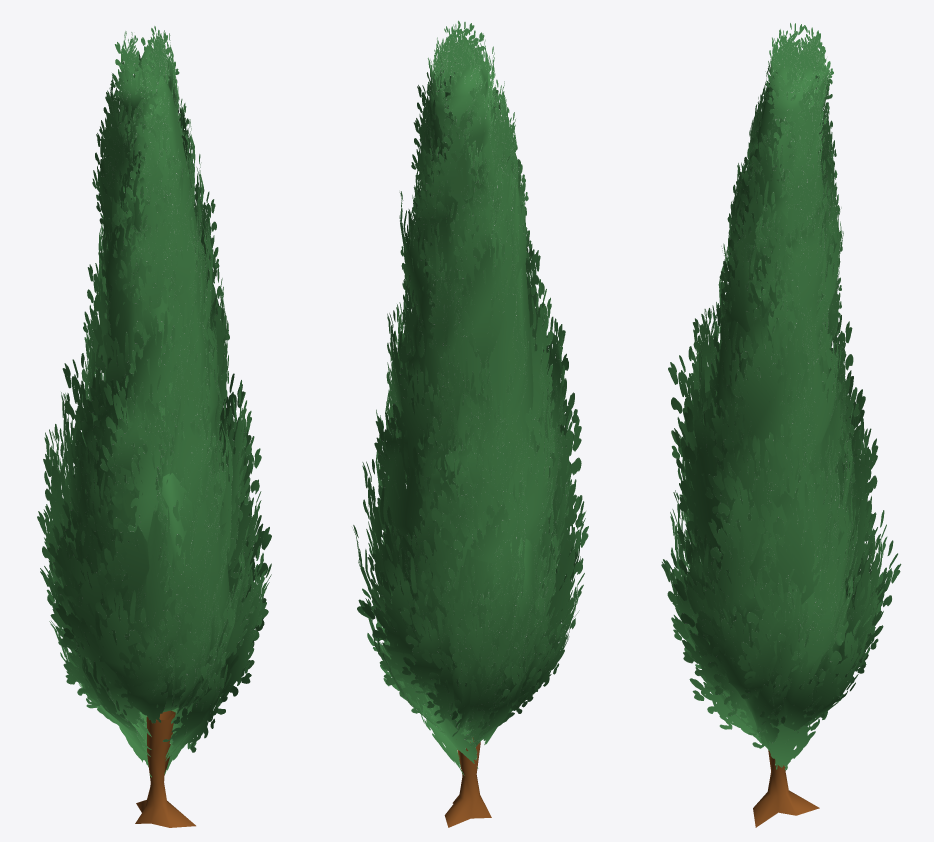
The model's file is Tree_Test02.fbx.
The picture shows the model from 3 angles, left to right: view 1: azimuth 30°, elevation 25°; view 2: azimuth 150°, elevation 25°; view 3: azimuth 270°, elevation 25°; orthographic projection.
Visible parts, largest first — view 1: Trunk.001; view 2: Trunk.001; view 3: Trunk.001.
Boxes of the visible parts, x1=… form: Trunk.001: x1=37, y1=26, x2=271, y2=827; Trunk.001: x1=352, y1=20, x2=588, y2=827; Trunk.001: x1=661, y1=23, x2=901, y2=827.
Size of the model in its own units: 368 by 1106 by 359.
3 materials, 1 textured.
